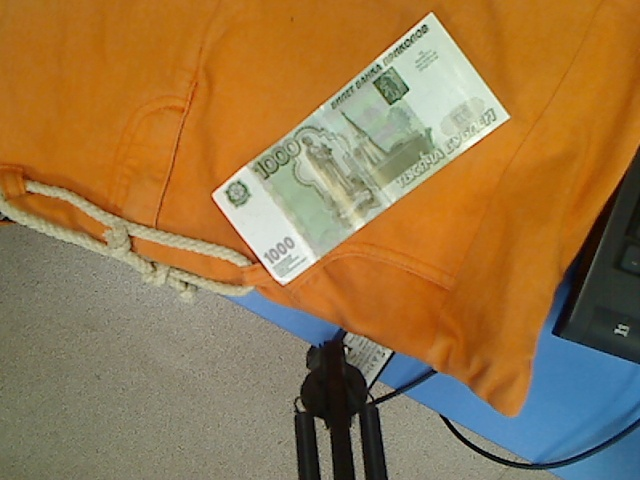banknotes: (211, 11, 516, 287)
